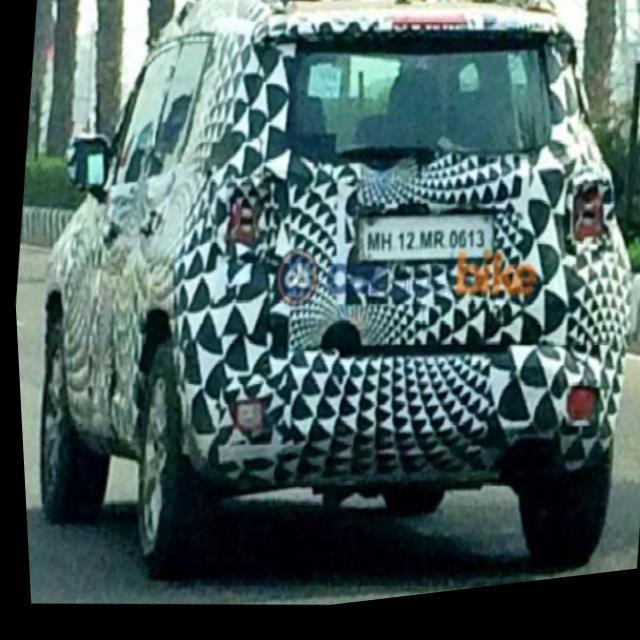license_plate: (348, 213, 491, 278)
